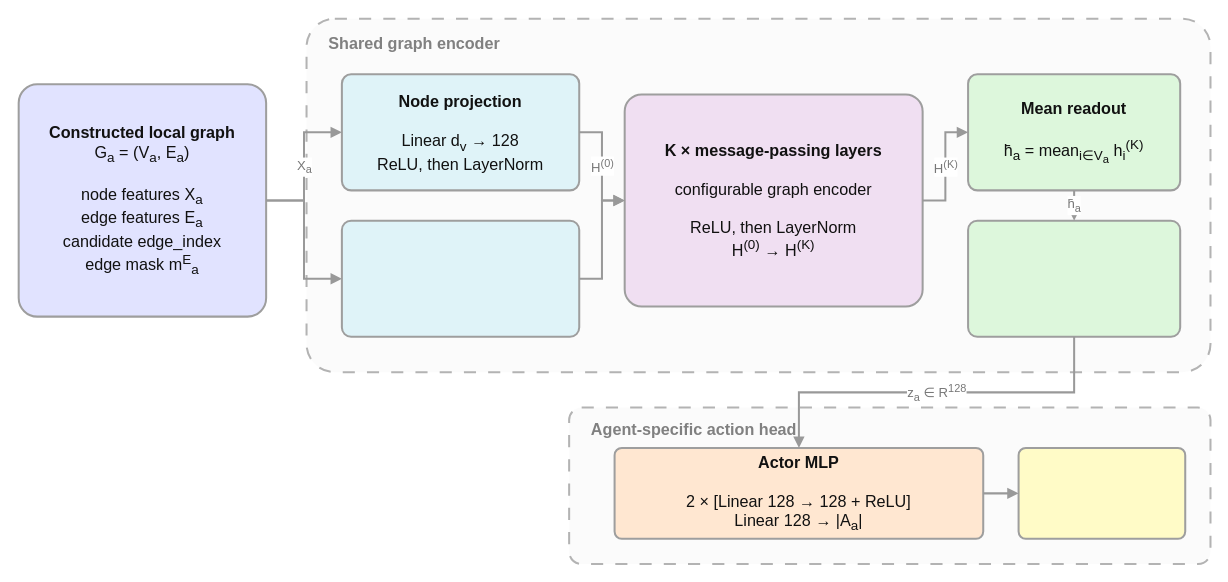
Some shapes in this 1228 by 582 pixel diagram are drawn without their labels. The centre of each missing label's shape, as x and y in pixels:
"Action logits ℓ a ∈ R |A a |" goes at (x=1101, y=492).
"Active-edge filtering retain rows with m E uv = 1 (active edge_index, E act a )" goes at (x=460, y=278).
"Graph projection Linear 128 → 128 ReLU → z a" goes at (x=1074, y=278).
